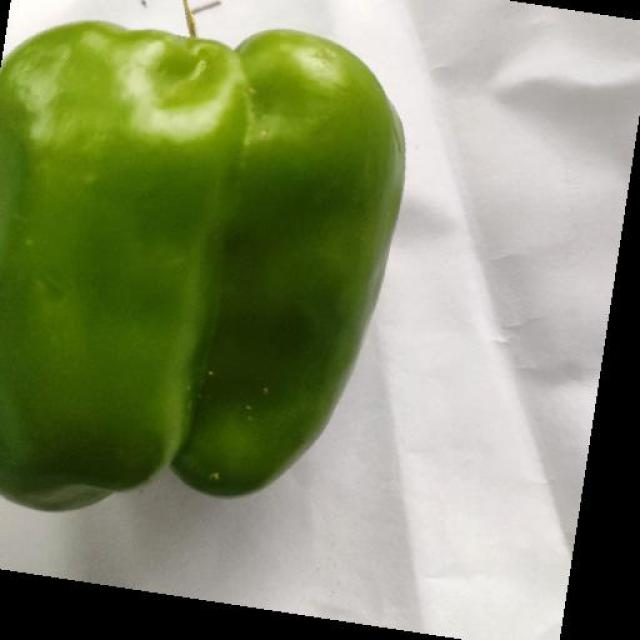Fresh_Capsicum: (8, 19, 374, 493)
